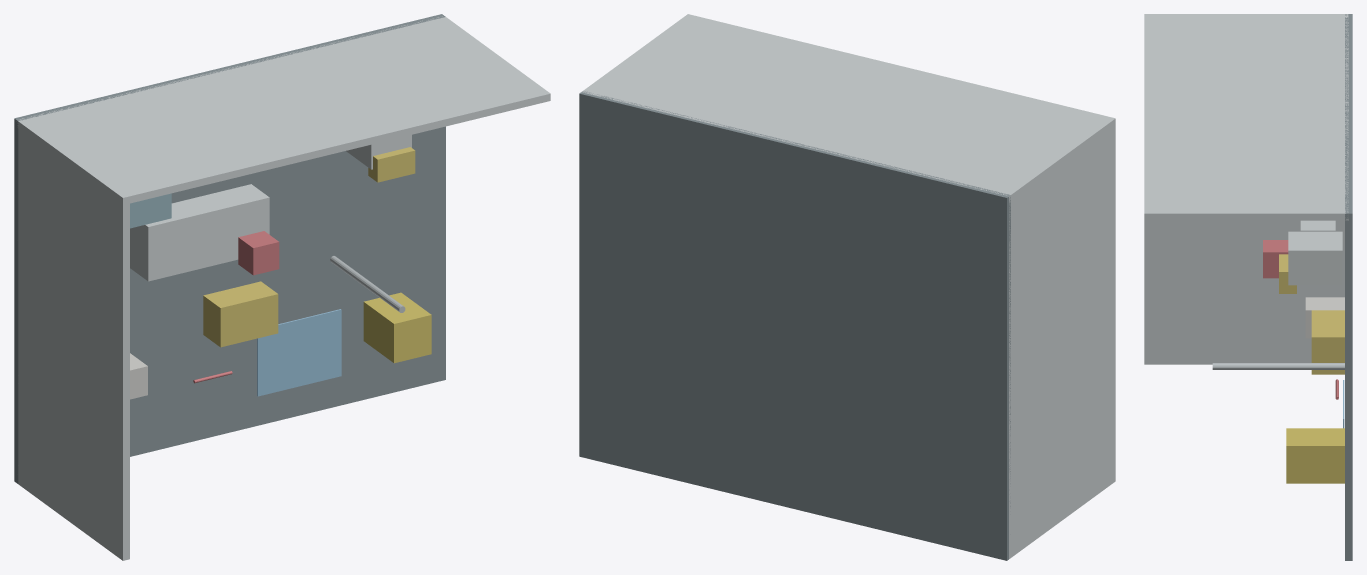
The model's file is risk-room-medium.glb.
3 views of the same model, side by side, from view 1: azimuth 30°, elevation 25°; view 2: azimuth 150°, elevation 25°; view 3: azimuth 270°, elevation 25° (orthographic). The views are drawn at different scales.
Parts seen in each view (by area): view 1: floor, wall_back, wall_left, bed, risk_wet_floor, risk_blocked_path, sharps_bin, risk_unsecured_item, risk_sink_obstruction, cabinet, handwash_sink, iv_stand (+1 smaller); view 2: floor, wall_back, wall_left; view 3: wall_back, wall_left, floor, sharps_bin, handwash_sink, risk_blocked_path, iv_stand, risk_unsecured_item, risk_unlabeled_container, risk_sink_obstruction, bed.
Boxes of the visible parts, x1,y1,x2,y2 form: floor: [14, 14, 445, 483]; wall_back: [16, 16, 550, 204]; wall_left: [18, 118, 129, 560]; bed: [130, 184, 269, 281]; risk_wet_floor: [257, 309, 341, 396]; risk_blocked_path: [203, 281, 278, 347]; sharps_bin: [363, 292, 431, 363]; risk_unsecured_item: [238, 231, 279, 275]; risk_sink_obstruction: [368, 147, 415, 182]; cabinet: [130, 193, 171, 228]; handwash_sink: [346, 135, 411, 169]; iv_stand: [330, 256, 405, 312]; floor: [579, 91, 1010, 560]; wall_back: [581, 14, 1115, 202]; wall_left: [1009, 118, 1115, 558]; wall_back: [1144, 14, 1348, 220]; wall_left: [1144, 14, 1348, 364]; floor: [1345, 14, 1352, 560]; sharps_bin: [1286, 428, 1344, 483]; handwash_sink: [1288, 231, 1342, 285]; risk_blocked_path: [1311, 310, 1344, 374]; iv_stand: [1212, 363, 1344, 369]; risk_unsecured_item: [1263, 240, 1288, 278]; risk_unlabeled_container: [1305, 297, 1344, 338]; risk_sink_obstruction: [1279, 254, 1296, 293]; bed: [1300, 220, 1335, 231].
Size of the model in its own units: 7.4 by 6 by 3.26.
